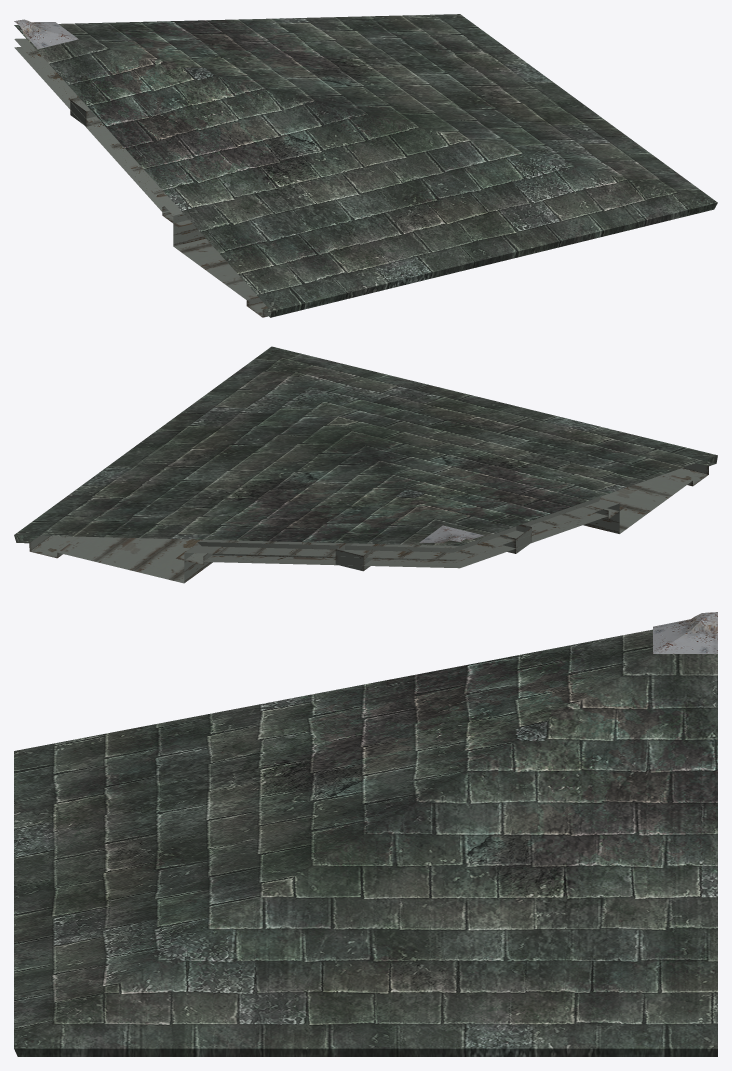
File: SM_Overhang200x200.FBX
3 renders of one model, top to bottom at view 1: azimuth 30°, elevation 25°; view 2: azimuth 150°, elevation 25°; view 3: azimuth 270°, elevation 25°, orthographic. The views are drawn at different scales.
Visible parts, largest first — view 1: SM_Overhang200x200; view 2: SM_Overhang200x200; view 3: SM_Overhang200x200.
Boxes of the visible parts, left/top/right/bottom form: SM_Overhang200x200: left=14, top=14, right=717, bottom=317; SM_Overhang200x200: left=14, top=346, right=717, bottom=583; SM_Overhang200x200: left=14, top=612, right=717, bottom=1056.
Size of the model in its own units: 298 by 73.08 by 298.
